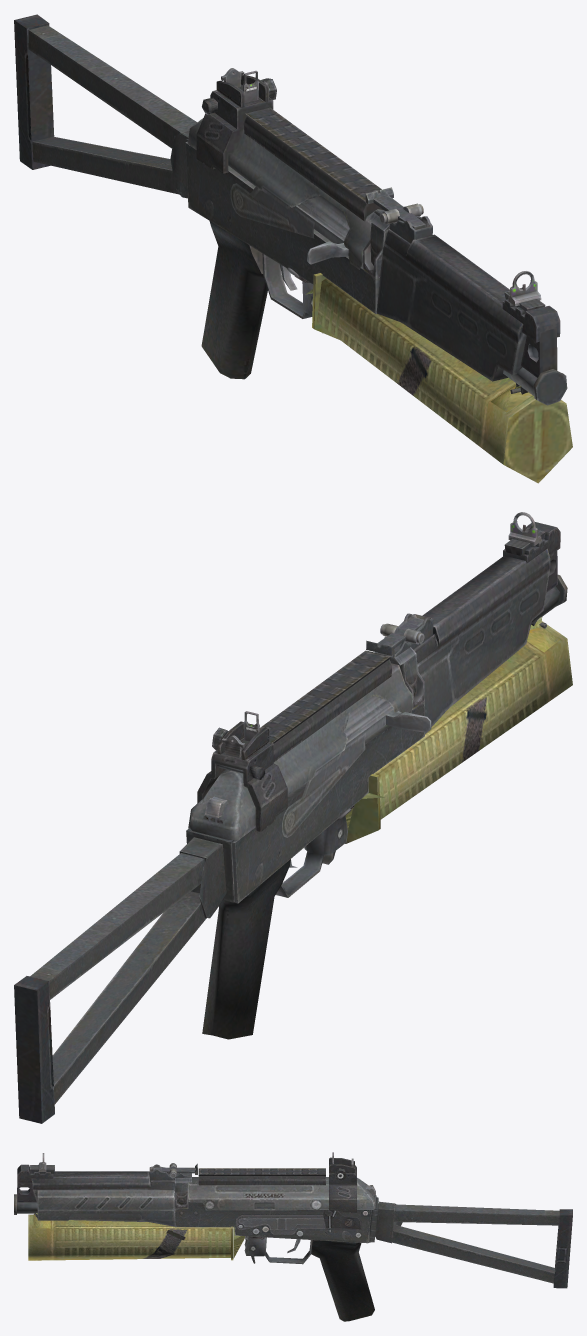
The model's file is SMG_cfq_qs_01_Body_Main_(000535).glb.
3 renders of one model, top to bottom at view 1: azimuth 30°, elevation 25°; view 2: azimuth 150°, elevation 25°; view 3: azimuth 270°, elevation 25°, orthographic. The views are drawn at different scales.
Parts seen in each view (by area): view 1: cfq_qs_01; view 2: cfq_qs_01; view 3: cfq_qs_01.
Part boxes in pixels (x1=…): cfq_qs_01: x1=14, y1=14, x2=572, y2=483; cfq_qs_01: x1=14, y1=512, x2=572, y2=1123; cfq_qs_01: x1=14, y1=1152, x2=572, y2=1321.
Bounding box in the file's own units: 0.1132 × 0.334 × 1.02.
1 material, 1 textured.
